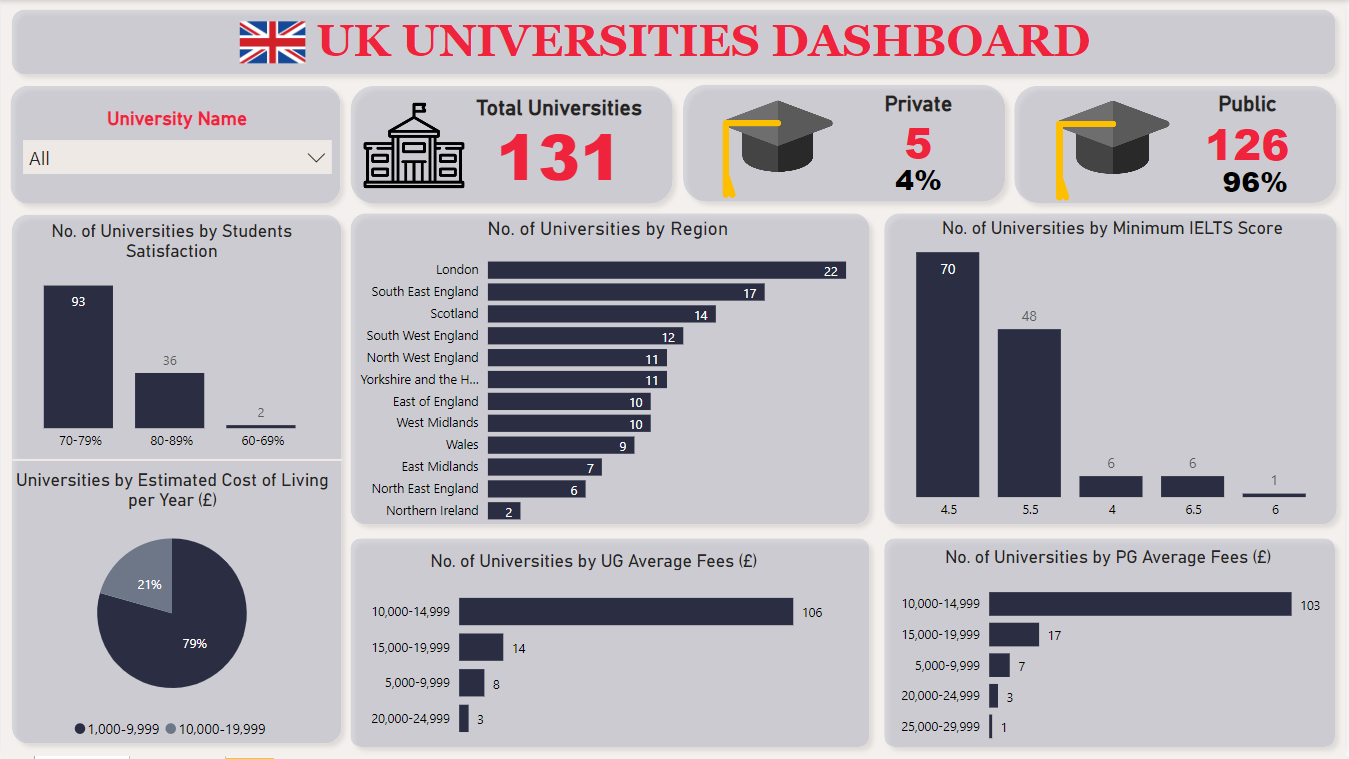

This screenshot's page, from the dashboard's own definition file:
{"tool":"powerbi","page":{"name":"Page 1","canvas":[1280,720],"ordinal":0},"visuals":[{"type":"shape","box":[955.1,72.6,324.9,129.7],"z":0},{"type":"image","box":[950.9,84.5,214.2,117.8],"z":1000},{"type":"shape","box":[323.7,194,512,314.2],"z":2000},{"type":"shape","box":[323.7,503.4,511.7,216.6],"z":3000},{"type":"shape","box":[831.9,503.4,447.5,216.6],"z":4000},{"type":"shape","box":[1.2,195.2,332,521.3],"z":5000},{"type":"shape","box":[831.9,194,448.7,314.2],"z":6000},{"type":"shape","box":[639.7,71.4,325,129.7],"z":7000},{"type":"shape","box":[0,72.6,332,130],"z":8000},{"type":"shape","box":[323.7,72.6,325,130],"z":9000},{"type":"clusteredBarChart","title":"No. of Universities by Region","fields":{"Category":["UK Universities.Region"],"Y":["CountNonNull(UK Universities.University_name)"]},"box":[323.7,207.1,508.2,301.1],"z":10000},{"type":"columnChart","title":"No. of Universities by Minimum IELTS Score","fields":{"Category":["UK Universities.Minimum_IELTS_score"],"Y":["CountNonNull(UK Universities.University_name)"]},"box":[835.4,207.1,445.1,296.3],"z":11000},{"type":"card","title":"Total Universities","fields":{"Values":["All Measures.Total Universities"]},"box":[430.8,90.4,201.1,86.9],"z":12000},{"type":"slicer","title":"University Name","fields":{"Values":["UK Universities.University_name"]},"box":[10.7,102.3,314.2,77.4],"z":13000},{"type":"card","title":"Private","fields":{"Values":["All Measures.Private University"]},"box":[802.1,86.9,142.8,71.4],"z":14000},{"type":"card","title":"Public","fields":{"Values":["All Measures.Public University"]},"box":[1092.5,86.9,188,76.2],"z":15000},{"type":"columnChart","title":"No. of Universities by Students Satisfaction","fields":{"Y":["CountNonNull(UK Universities.University_name)"],"Category":["UK Universities.Student_satisfaction (groups)"]},"box":[1.2,209.5,322.5,228.5],"z":16000},{"type":"clusteredBarChart","title":"No. of Universities by UG Average Fees (£)","fields":{"Y":["CountNonNull(UK Universities.University_name)"],"Category":["UK Universities.UG_average_fees (groups)"]},"box":[340.4,523.6,447.5,192.8],"z":17000},{"type":"clusteredBarChart","title":"No. of Universities by PG Average Fees (£)","fields":{"Category":["UK Universities.PG_average_fees (groups)"],"Y":["CountNonNull(UK Universities.University_name)"]},"box":[845,520.1,417.7,199.9],"z":18000},{"type":"pieChart","title":"Universities by Estimated Cost of Living per Year (£)","fields":{"Category":["UK Universities.Estimated_cost_of_living_per_year (groups)"],"Y":["CountNonNull(UK Universities.University_name)"]},"box":[1.2,446.3,323.7,266.6],"z":19000},{"type":"shape","box":[1.2,0,1278.1,79.7],"z":20000},{"type":"textbox","box":[295.1,9.5,762.8,63.1],"z":21000},{"type":"card","fields":{"Values":["All Measures.% Public"]},"box":[1131.8,134.5,125,78.5],"z":22000},{"type":"card","fields":{"Values":["All Measures.% Private"]},"box":[814,134.5,119,75],"z":23000},{"type":"image","box":[222.5,10.7,72.6,58.3],"z":24000},{"type":"image","box":[340.4,80.9,105.9,114.2],"z":25000},{"type":"image","box":[631.9,84.5,214.2,114.2],"z":26000},{"type":"shape","box":[10.7,397.5,314.2,80.9],"z":27000}]}

Visuals, with their boxes in screenshot pixels (x1, y1, x2, y2), scaled from the page's 1280x720 canvas onto the 1349x759 screenshot:
shape: bbox=[1007, 77, 1348, 213]
image: bbox=[1002, 89, 1228, 213]
shape: bbox=[341, 205, 881, 536]
shape: bbox=[341, 531, 880, 758]
shape: bbox=[877, 531, 1348, 758]
shape: bbox=[1, 206, 351, 755]
shape: bbox=[877, 205, 1348, 536]
shape: bbox=[674, 75, 1017, 212]
shape: bbox=[0, 77, 350, 214]
shape: bbox=[341, 77, 684, 214]
"No. of Universities by Region" clusteredBarChart: bbox=[341, 218, 877, 536]
"No. of Universities by Minimum IELTS Score" columnChart: bbox=[880, 218, 1348, 531]
"Total Universities" card: bbox=[454, 95, 666, 187]
"University Name" slicer: bbox=[11, 108, 342, 189]
"Private" card: bbox=[845, 92, 996, 167]
"Public" card: bbox=[1151, 92, 1348, 172]
"No. of Universities by Students Satisfaction" columnChart: bbox=[1, 221, 341, 462]
"No. of Universities by UG Average Fees (£)" clusteredBarChart: bbox=[359, 552, 830, 755]
"No. of Universities by PG Average Fees (£)" clusteredBarChart: bbox=[891, 548, 1331, 758]
"Universities by Estimated Cost of Living per Year (£)" pieChart: bbox=[1, 470, 342, 752]
shape: bbox=[1, 0, 1348, 84]
textbox: bbox=[311, 10, 1115, 77]
card - All Measures.% Public: bbox=[1193, 142, 1325, 225]
card - All Measures.% Private: bbox=[858, 142, 983, 221]
image: bbox=[234, 11, 311, 73]
image: bbox=[359, 85, 470, 206]
image: bbox=[666, 89, 892, 209]
shape: bbox=[11, 419, 342, 504]
